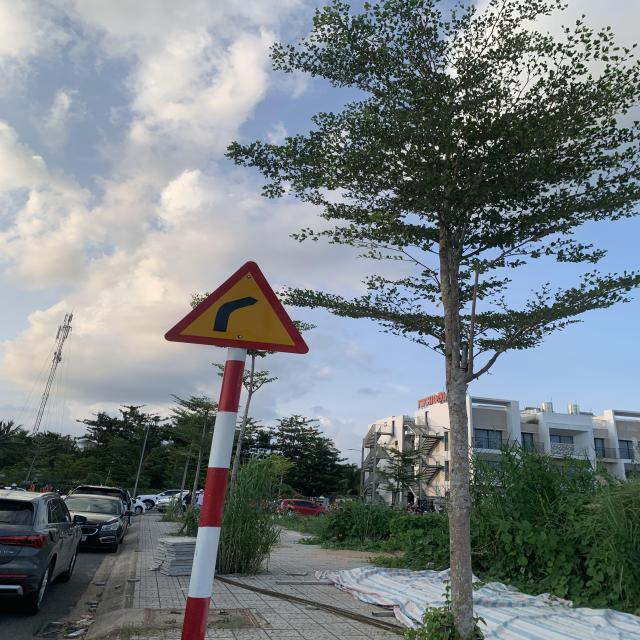Duong_Nguoi_Di_Bo_Cat_Ngang: (160, 260, 310, 354)
